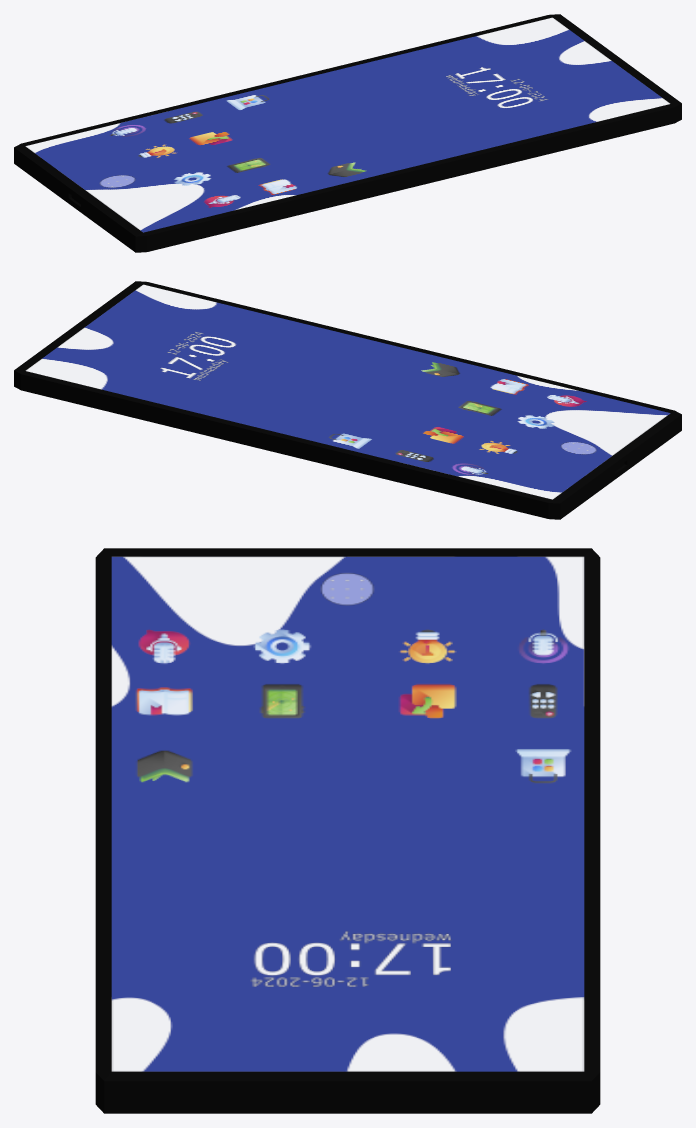
Rendered from Phone.glb.
3 renders of one model, top to bottom at view 1: azimuth 30°, elevation 25°; view 2: azimuth 150°, elevation 25°; view 3: azimuth 270°, elevation 25°, orthographic. The views are drawn at different scales.
Visible parts, largest first — view 1: Cube.009; view 2: Cube.009; view 3: Cube.009.
Boxes of the visible parts, <box> form: Cube.009: <box>14,14,681,252</box>; Cube.009: <box>14,281,681,519</box>; Cube.009: <box>95,548,600,1113</box>.
Bounding box in the file's own units: 6.8 × 0.2 × 2.72.
2 materials, 1 textured.
